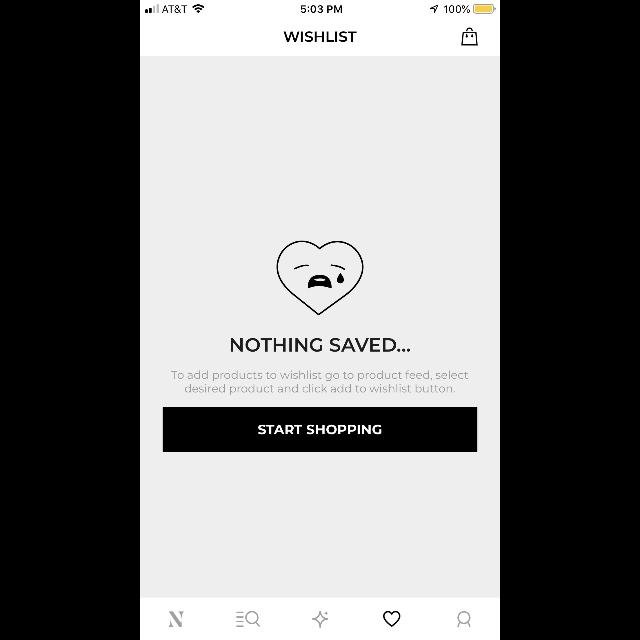icon: (236, 611, 260, 627), (460, 28, 478, 46), (384, 611, 401, 627), (458, 611, 470, 627)
image: (276, 240, 364, 316), (312, 610, 328, 628), (170, 611, 184, 627)
text: (172, 371, 468, 395), (232, 338, 410, 352), (284, 32, 356, 42)
textbutton: (163, 406, 477, 452)
uppertaskbar: (140, 0, 500, 14)
